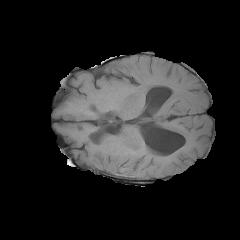glioma: (86, 135, 192, 175)
